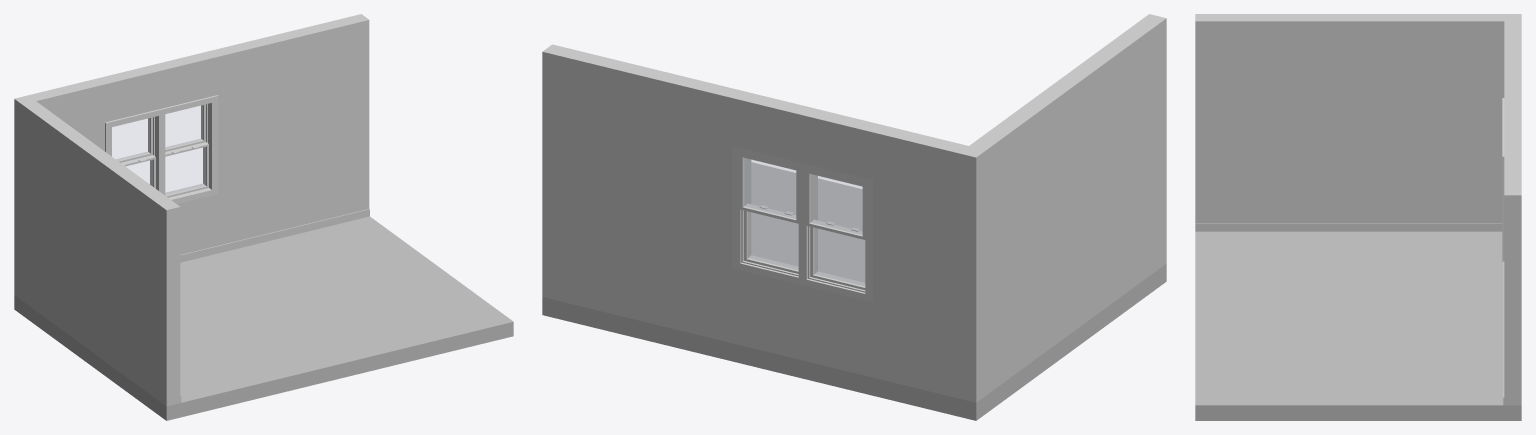
The picture shows the model from 3 angles, left to right: view 1: azimuth 30°, elevation 25°; view 2: azimuth 150°, elevation 25°; view 3: azimuth 270°, elevation 25°; orthographic projection. The views are drawn at different scales.
Size of the model in its own units: 200 by 116 by 152.
